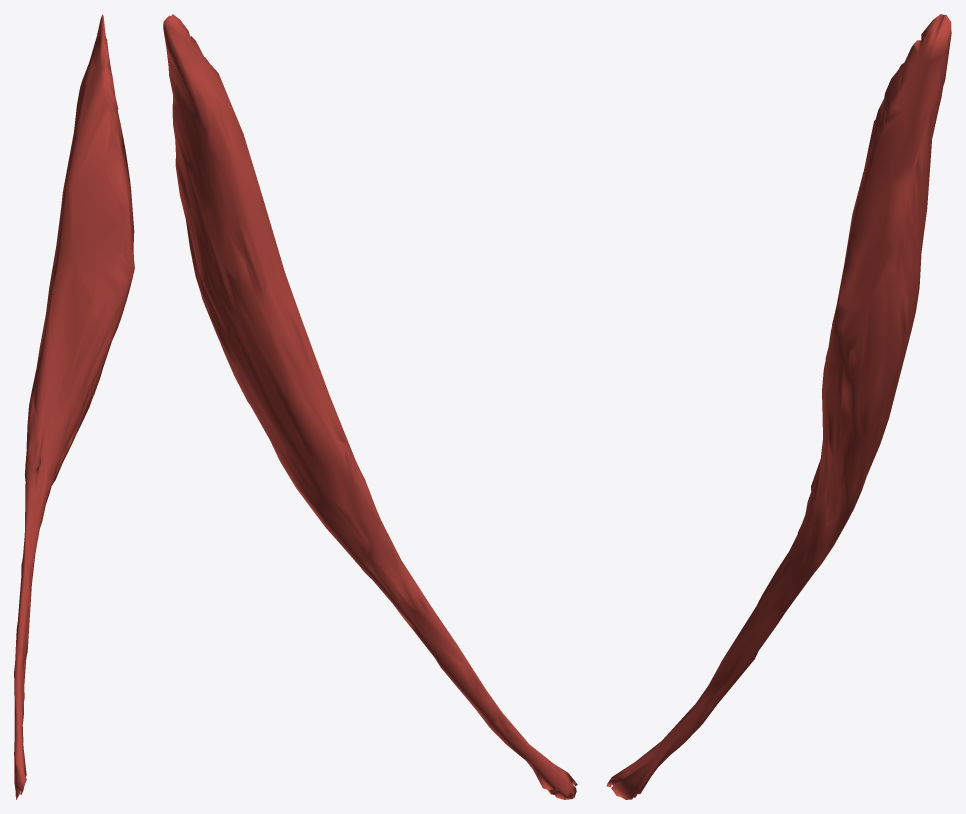
Rendered from musculos-abductor-pollicis-longus-r.glb.
3 renders of one model, left to right at view 1: azimuth 30°, elevation 25°; view 2: azimuth 150°, elevation 25°; view 3: azimuth 270°, elevation 25°, orthographic. The views are drawn at different scales.
Parts seen in each view (by area): view 1: Abductor pollicis longus.r; view 2: Abductor pollicis longus.r; view 3: Abductor pollicis longus.r.
Part boxes in pixels (x1,y1,x2,y2): Abductor pollicis longus.r: (14, 14, 134, 799); Abductor pollicis longus.r: (163, 14, 577, 799); Abductor pollicis longus.r: (606, 14, 951, 799).
Bounding box in the file's own units: 0.064 × 0.1878 × 0.0637.
